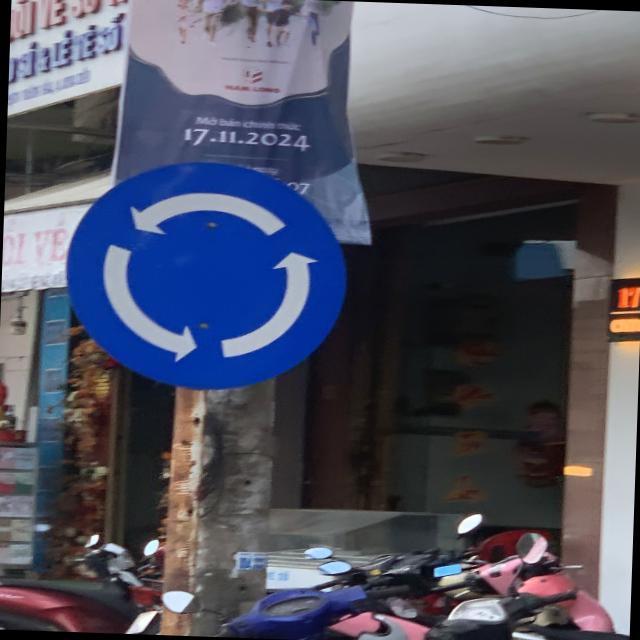Xe_Bus: (64, 156, 356, 394)
